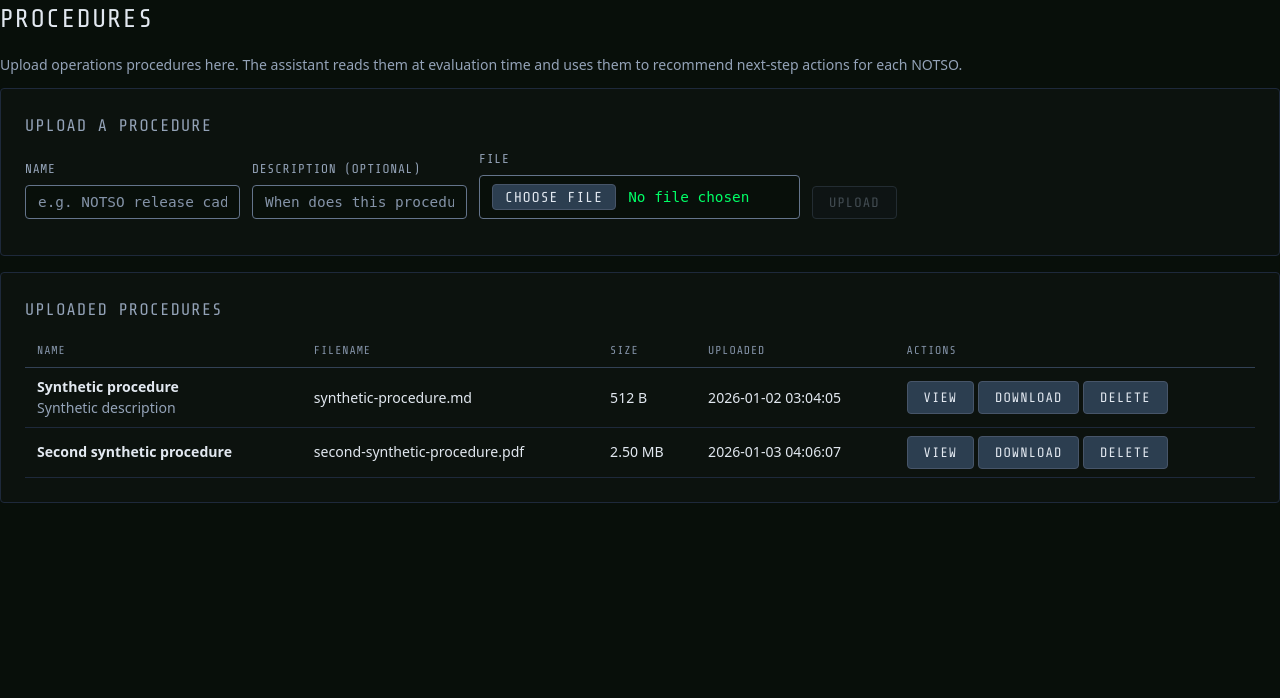
Test: the procedures page › closes the open procedure when that one is deleted, and only then
The image size is (1280, 698).
Click the button "View" in the row of "Synthetic description": (940, 397) left=907, top=381, right=974, bottom=414
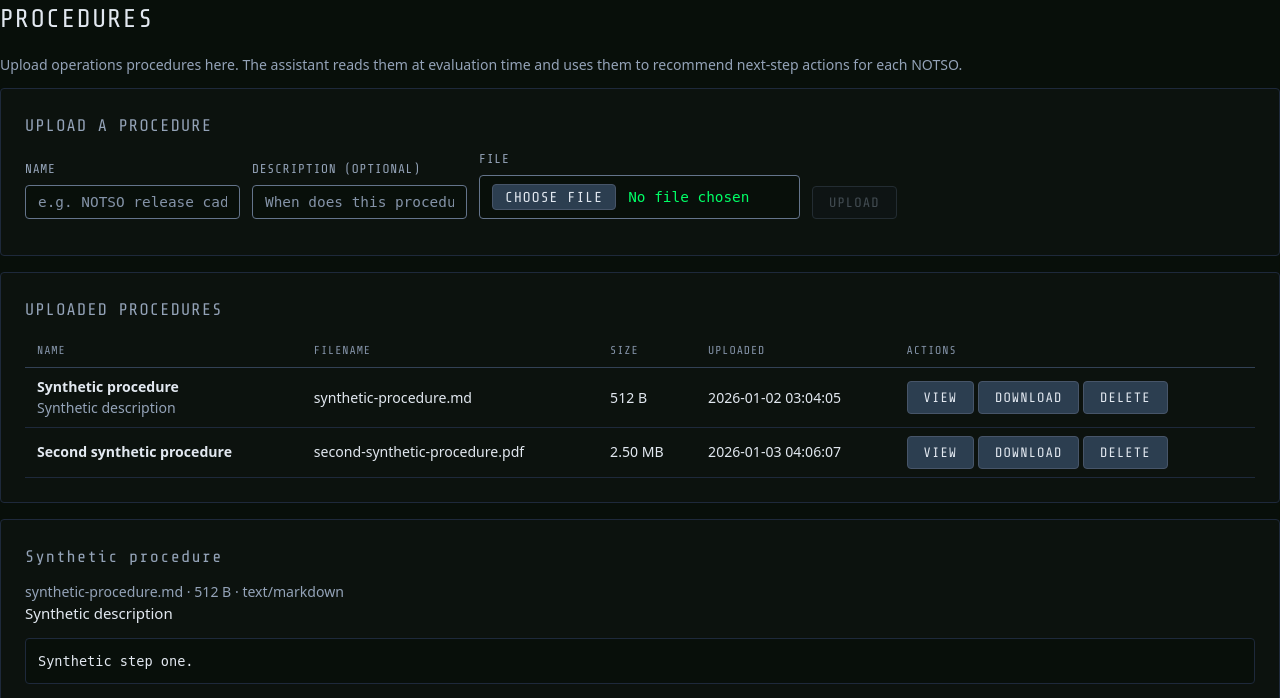
Result: the heading "Synthetic procedure" is shown at left=25, top=546, right=223, bottom=566
Click the button "Delete" in the row of "Second synthetic procedure": (1125, 452) left=1083, top=436, right=1168, bottom=468
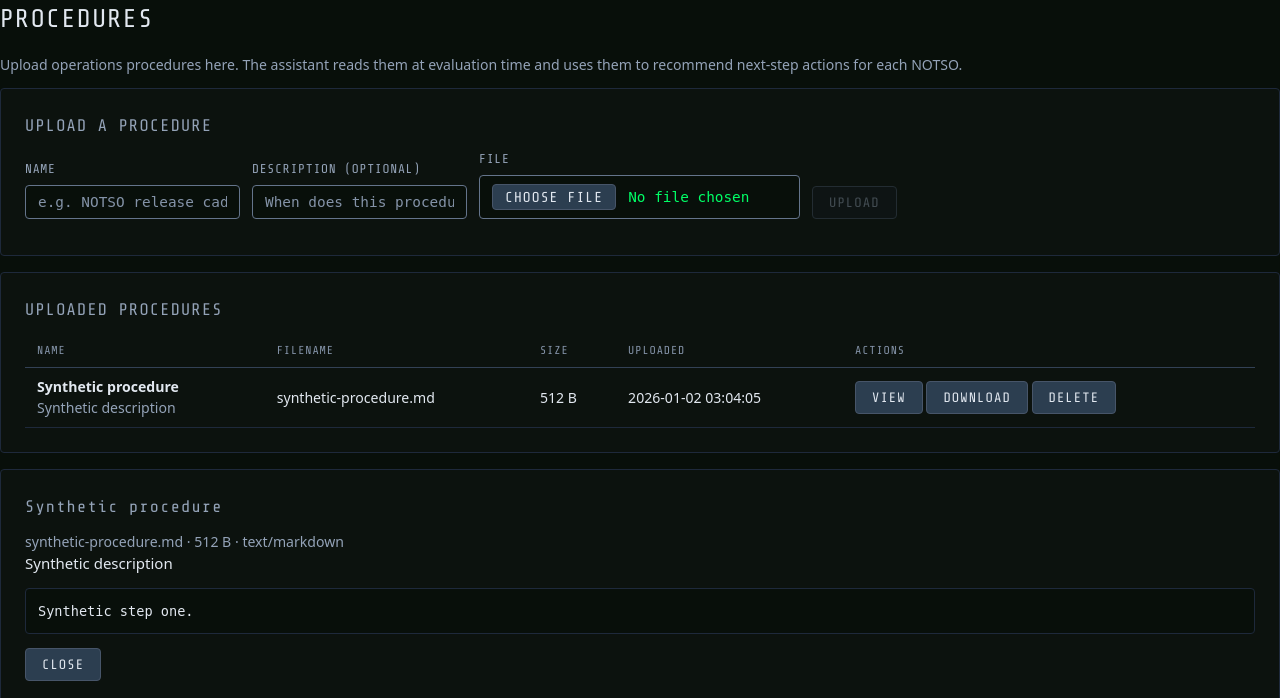
Expected: the heading "Synthetic procedure" is shown, left=25, top=496, right=223, bottom=516
Result: the text "Second synthetic procedure" is gone
Click the button "Delete": (1074, 397) left=1032, top=381, right=1116, bottom=414
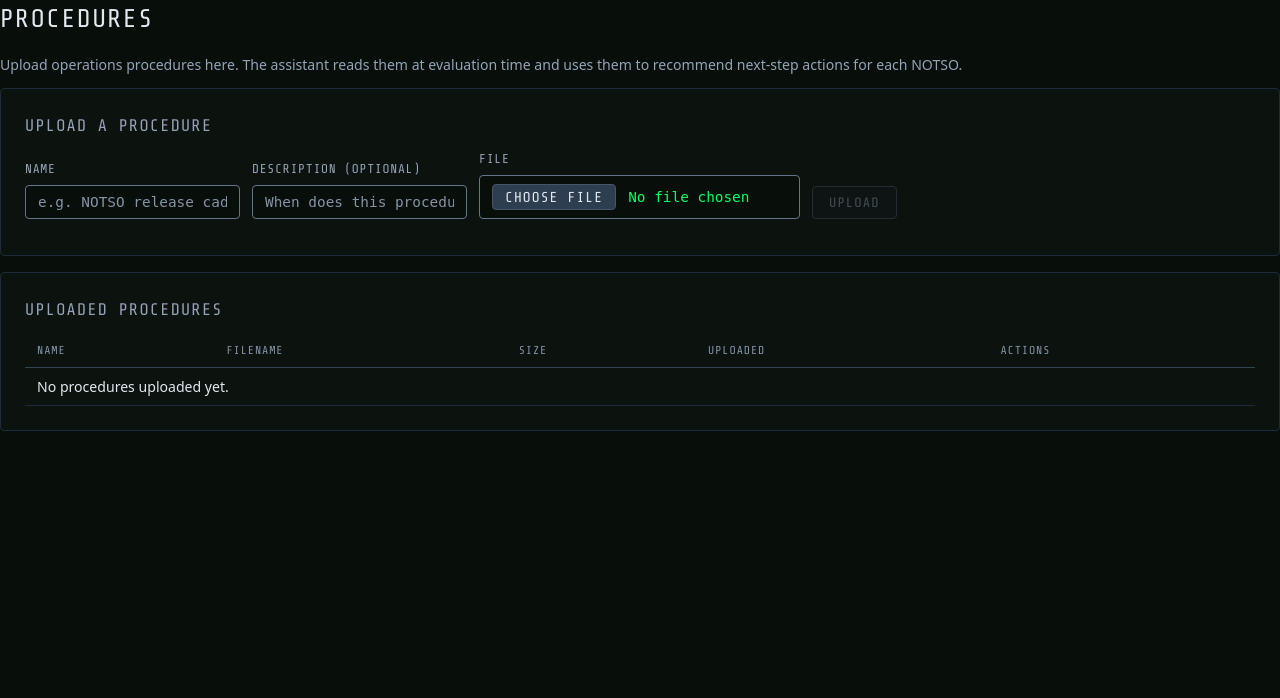
Result: the text "No procedures uploaded yet." is shown at left=25, top=368, right=1255, bottom=406
Result: the text "Synthetic procedure" is gone
